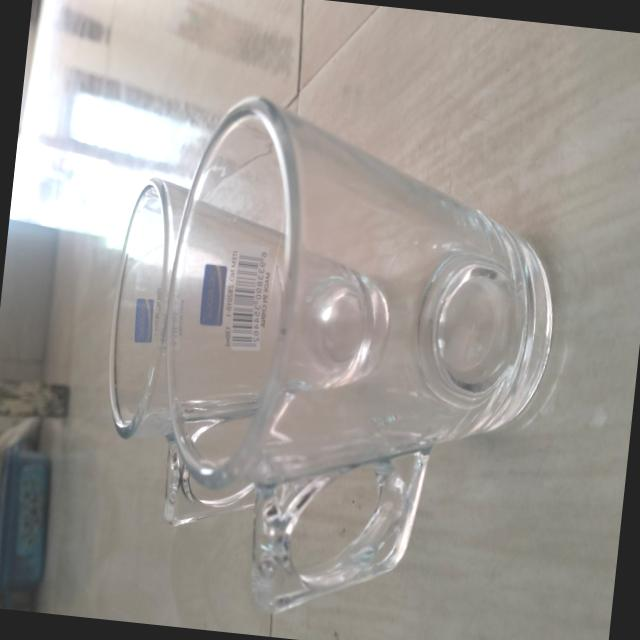glass-VX4N: (145, 74, 574, 638), (91, 175, 395, 545)
